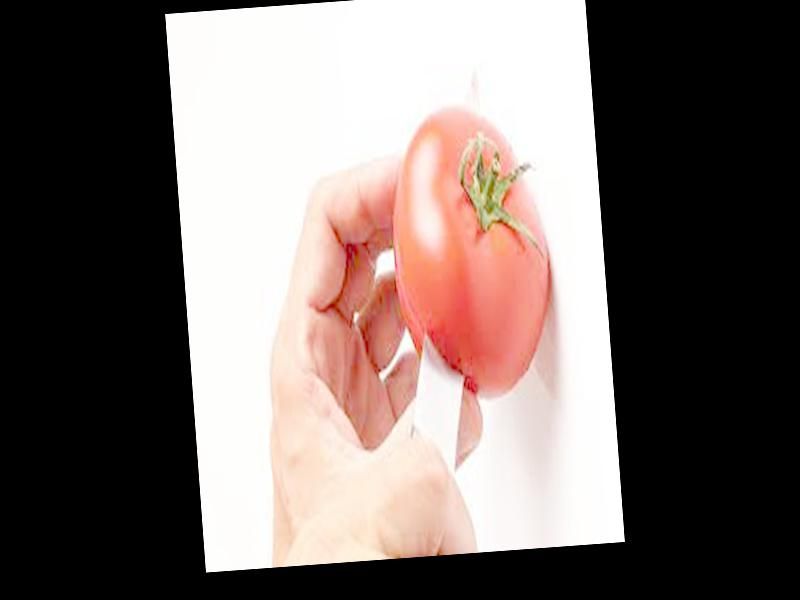Tomato: (382, 106, 557, 404)
